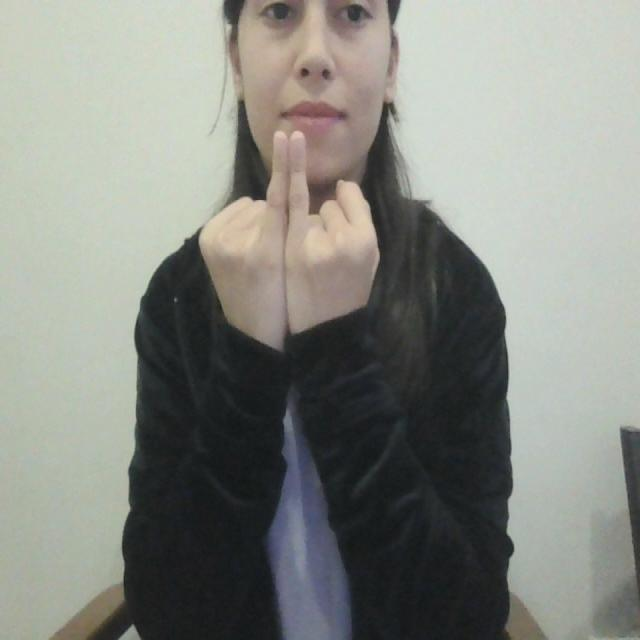Kardes: (193, 124, 386, 364)
